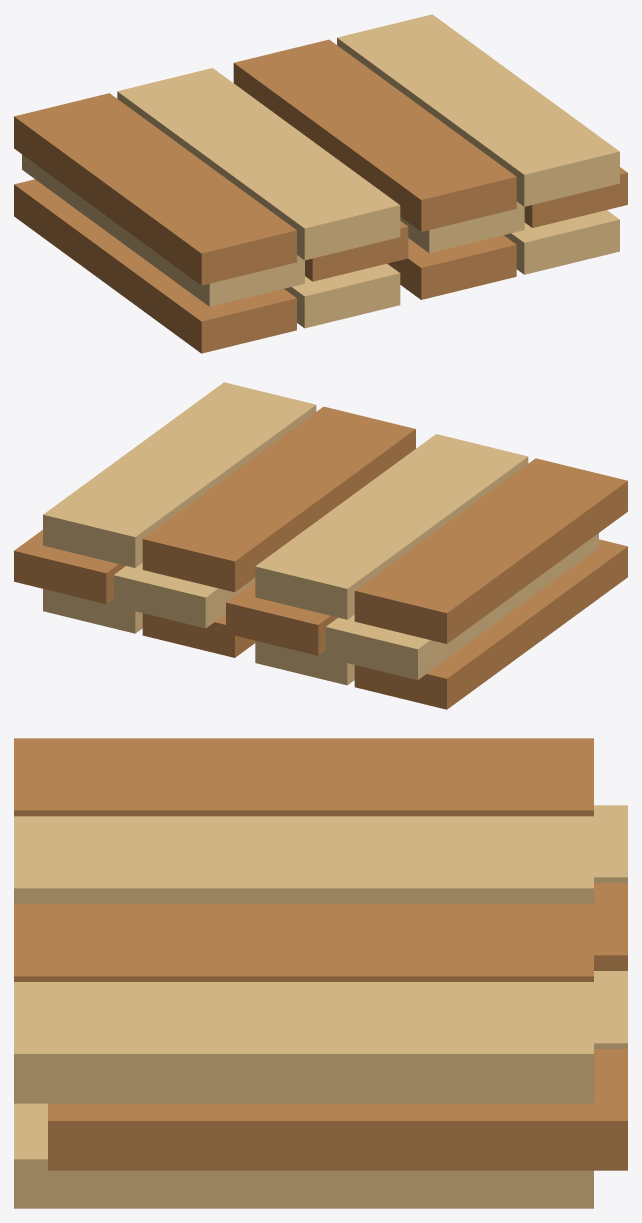
File: trading_post_l2_fill.fbx
The picture shows the model from 3 angles, top to bottom: view 1: azimuth 30°, elevation 25°; view 2: azimuth 150°, elevation 25°; view 3: azimuth 270°, elevation 25°; orthographic projection. The views are drawn at different scales.
Parts seen in each view (by area): view 1: Fill_planks_2, Fill_planks_1; view 2: Fill_planks_2, Fill_planks_1; view 3: Fill_planks_1, Fill_planks_2.
Boxes of the visible parts, left/top/right/bottom form: Fill_planks_2: left=14, top=68, right=408, bottom=353; Fill_planks_1: left=233, top=14, right=627, bottom=299; Fill_planks_2: left=226, top=434, right=627, bottom=709; Fill_planks_1: left=14, top=382, right=415, bottom=657; Fill_planks_1: left=14, top=904, right=627, bottom=1208; Fill_planks_2: left=14, top=738, right=627, bottom=970.
Bounding box in the file's own units: 0.2748 × 0.06 × 0.216.
